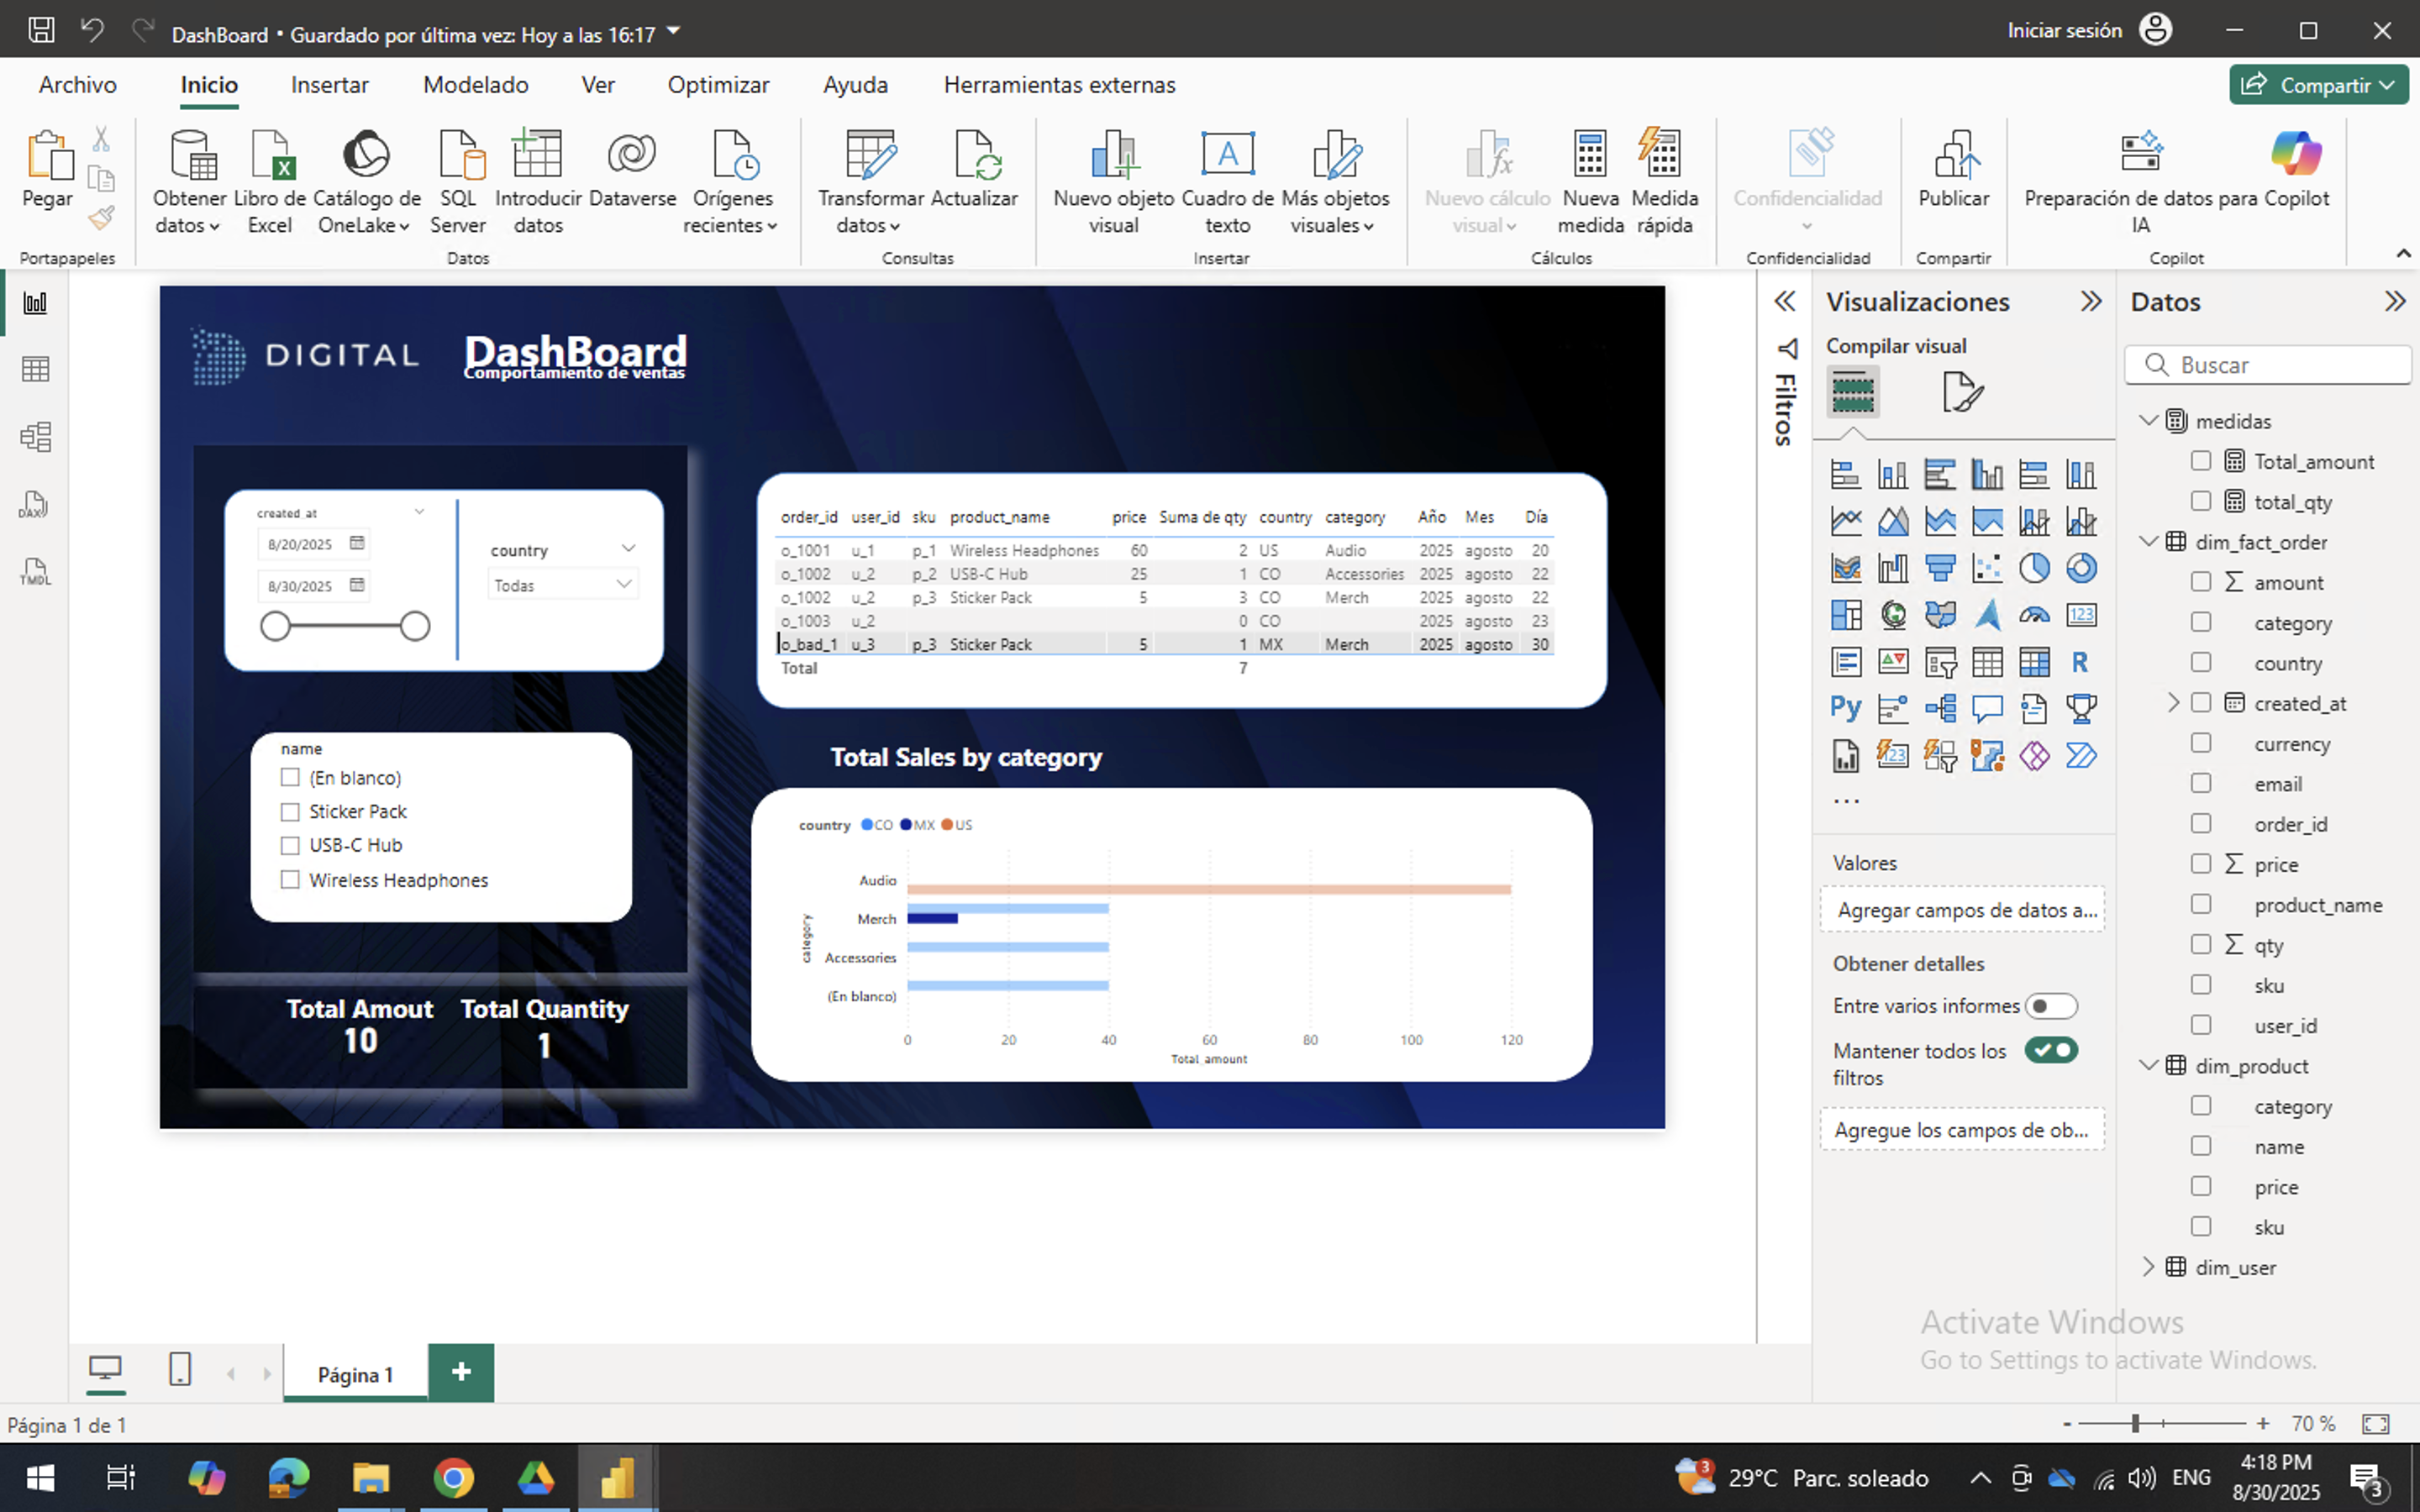

What the dashboard file says about the page in this screenshot:
{"tool":"powerbi","page":{"name":"Página 1","canvas":[1280,720],"ordinal":0},"visuals":[{"type":"shape","box":[28.3,135,420,448.3],"z":1000},{"type":"shape","box":[76.7,380,325,161.7],"z":2000,"group":"g3"},{"type":"group","id":"g1","title":"Grupo 1","box":[212.9,23.3,278.6,77.1],"z":4000},{"type":"image","box":[15.7,15.7,217.1,85.7],"z":5000},{"type":"slicer","fields":{"Values":["dim_product.name"]},"box":[90,380,300,180],"z":6000,"group":"g3"},{"type":"shape","box":[54.3,172.9,374.8,155.5],"z":7000,"group":"g2"},{"type":"slicer","fields":{"Values":["dim_fact_order.created_at"]},"box":[69.6,181.8,168.3,137.7],"z":8000,"group":"g2"},{"type":"slicer","fields":{"Values":["dim_fact_order.country"]},"box":[268.5,211.1,149.2,79],"z":9000,"group":"g2"},{"type":"shape","box":[230.2,181.8,45.9,137.7],"z":10000,"group":"g2"},{"type":"shape","box":[28.6,595.7,420,87.1],"z":11000},{"type":"card","fields":{"Values":["medidas.Total_amount"]},"box":[91.4,598.6,157.1,84.3],"z":12000},{"type":"textbox","box":[247.9,23.3,210.3,65],"z":13000,"group":"g1"},{"type":"textbox","box":[248.6,594.3,157.1,58.6],"z":13000},{"type":"shape","box":[507.1,158.6,724.3,201.4],"z":14000},{"type":"tableEx","fields":{"Values":["dim_fact_order.order_id","dim_fact_order.user_id","dim_fact_order.sku","dim_fact_order.product_name","dim_product.price","Sum(dim_fact_order.qty)","dim_fact_order.country","dim_fact_order.category","dim_fact_order.created_at.Variación.Jerarquía de fechas.Año","dim_fact_order.created_at.Variación.Jerarquía de fechas.Mes","dim_fact_order.created_at.Variación.Jerarquía de fechas.Día"]},"box":[517.1,181.4,705.7,182.9],"z":15000},{"type":"textbox","box":[91.4,594.3,157.1,58.6],"z":15001},{"type":"card","fields":{"Values":["medidas.total_qty"]},"box":[248.6,615.7,157.1,58.6],"z":15002},{"type":"group","id":"g2","title":"Grupo 2","box":[54.3,172.9,375.7,154.3],"z":15003},{"type":"group","id":"g3","title":"Grupo 3","box":[76.7,380,325,180],"z":15004},{"type":"shape","box":[502.9,427.1,715.7,250],"z":15005},{"type":"clusteredBarChart","fields":{"Category":["dim_product.category"],"Y":["medidas.Total_amount"],"Series":["dim_fact_order.country"]},"box":[538.6,438.6,625.7,230],"z":15006},{"type":"textbox","box":[541.4,380,288.6,58.6],"z":15007},{"type":"textbox","box":[212.9,41.1,279.2,58.6],"z":21001,"group":"g1"}]}

Visuals, with their boxes on the page's 1280x720 design canvas (x1, y1, x2, y2). These are canvas units, not pixel positions in the 2420x1512 screenshot, which may show the page scaled, cropped or inside an application window:
shape: 28/135/448/583
shape: 77/380/402/542
"Grupo 1" group: 213/23/492/100
image: 16/16/233/101
slicer - dim_product.name: 90/380/390/560
shape: 54/173/429/328
slicer - dim_fact_order.created_at: 70/182/238/320
slicer - dim_fact_order.country: 268/211/418/290
shape: 230/182/276/320
shape: 29/596/449/683
card - medidas.Total_amount: 91/599/248/683
textbox: 248/23/458/88
textbox: 249/594/406/653
shape: 507/159/1231/360
tableEx - dim_fact_order.order_id x dim_fact_order.user_id: 517/181/1223/364
textbox: 91/594/248/653
card - medidas.total_qty: 249/616/406/674
"Grupo 2" group: 54/173/430/327
"Grupo 3" group: 77/380/402/560
shape: 503/427/1219/677
clusteredBarChart - dim_product.category x medidas.Total_amount: 539/439/1164/669
textbox: 541/380/830/439
textbox: 213/41/492/100
